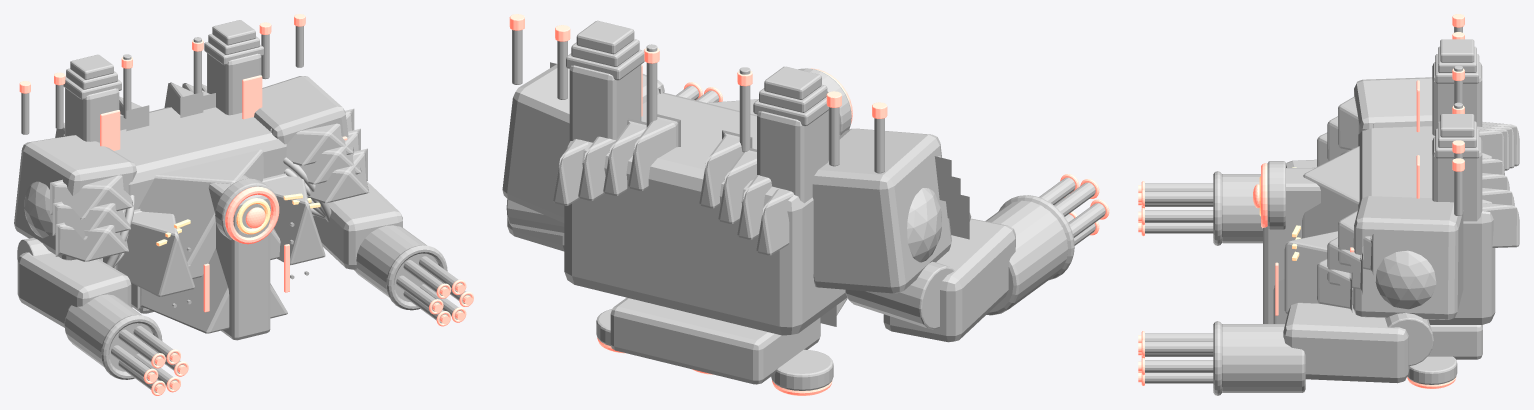
Rendered from leviathan-concept.glb.
3 views of the same model, side by side, from view 1: azimuth 30°, elevation 25°; view 2: azimuth 150°, elevation 25°; view 3: azimuth 270°, elevation 25° (orthographic). The views are drawn at different scales.
Visible parts, largest first — view 1: Torso.Core, Torso.FrontArmour, Shoulder.Block, Torso.Keel, Arm.Forearm, Torso.Cheek, Shoulder.Block.001, Torso.LowerProw, Arm.Forearm.001, Cannon.Shroud, Torso.Cheek.001, Cannon.Shroud.001 (+34 smaller); view 2: Torso.Core, Shoulder.Block, Undercarriage, Shoulder.Block.001, Arm.Forearm, Cannon.Shroud, Reactor.Tower, Reactor.Tower.001, Arm.Pivot, Back.Fin.004, Shoulder.Joint, Hover.Pod (+28 smaller); view 3: Shoulder.Block.001, Torso.Core, Arm.Forearm.001, Cannon.Shroud.001, Shoulder.Block, Torso.FrontArmour, Torso.Keel, Shoulder.Joint.001, Cannon.Shroud, Torso.Cheek.001, Reactor.Tower.001, Undercarriage (+34 smaller).
Boxes of the visible parts, <box> form: Torso.Core: <box>62,107,288,267</box>; Torso.FrontArmour: <box>138,149,280,278</box>; Shoulder.Block: <box>14,135,136,260</box>; Torso.Keel: <box>208,175,270,340</box>; Arm.Forearm: <box>17,252,131,327</box>; Torso.Cheek: <box>114,209,194,296</box>; Shoulder.Block.001: <box>254,76,348,167</box>; Torso.LowerProw: <box>137,248,287,333</box>; Arm.Forearm.001: <box>314,181,402,269</box>; Cannon.Shroud: <box>64,294,152,371</box>; Torso.Cheek.001: <box>262,173,325,265</box>; Cannon.Shroud.001: <box>354,225,438,301</box>; Torso.Core: <box>564,92,847,335</box>; Shoulder.Block: <box>812,128,951,293</box>; Undercarriage: <box>610,297,820,384</box>; Shoulder.Block.001: <box>502,64,664,222</box>; Arm.Forearm: <box>883,218,1015,342</box>; Cannon.Shroud: <box>985,200,1068,315</box>; Reactor.Tower: <box>757,110,828,203</box>; Reactor.Tower.001: <box>569,65,641,142</box>; Arm.Pivot: <box>845,261,954,329</box>; Back.Fin.004: <box>628,114,680,190</box>; Shoulder.Joint: <box>907,188,941,262</box>; Hover.Pod: <box>771,349,833,390</box>; Shoulder.Block.001: <box>1353,196,1463,319</box>; Torso.Core: <box>1358,123,1495,324</box>; Arm.Forearm.001: <box>1283,302,1409,383</box>; Cannon.Shroud.001: <box>1222,324,1305,392</box>; Shoulder.Block: <box>1354,77,1432,134</box>; Torso.FrontArmour: <box>1302,146,1359,238</box>; Torso.Keel: <box>1263,168,1320,323</box>; Shoulder.Joint.001: <box>1375,250,1436,309</box>; Cannon.Shroud: <box>1222,174,1262,243</box>; Torso.Cheek.001: <box>1284,231,1353,313</box>; Reactor.Tower.001: <box>1432,136,1482,221</box>; Undercarriage: <box>1428,325,1482,359</box>.
Size of the model in its own units: 7.05 by 4.73 by 6.25.
